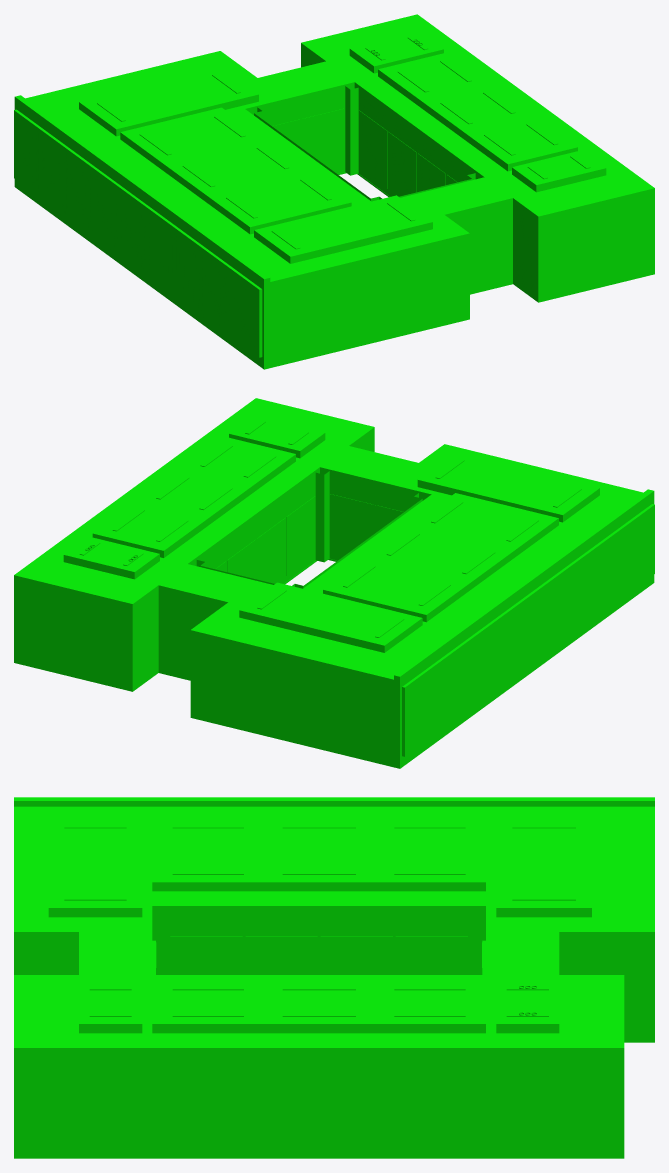
3 views of the same model, one above another, from view 1: azimuth 30°, elevation 25°; view 2: azimuth 150°, elevation 25°; view 3: azimuth 270°, elevation 25° (orthographic). The views are drawn at different scales.
Parts seen in each view (by area): view 1: Hitbox_Cubemap; view 2: Hitbox_Cubemap; view 3: Hitbox_Cubemap.
Part boxes in pixels (x1,y1,x2,y2): Hitbox_Cubemap: (14, 14, 654, 369); Hitbox_Cubemap: (14, 398, 654, 768); Hitbox_Cubemap: (14, 797, 654, 1158).
Size of the model in its own units: 28.7 by 6.7 by 31.5.
